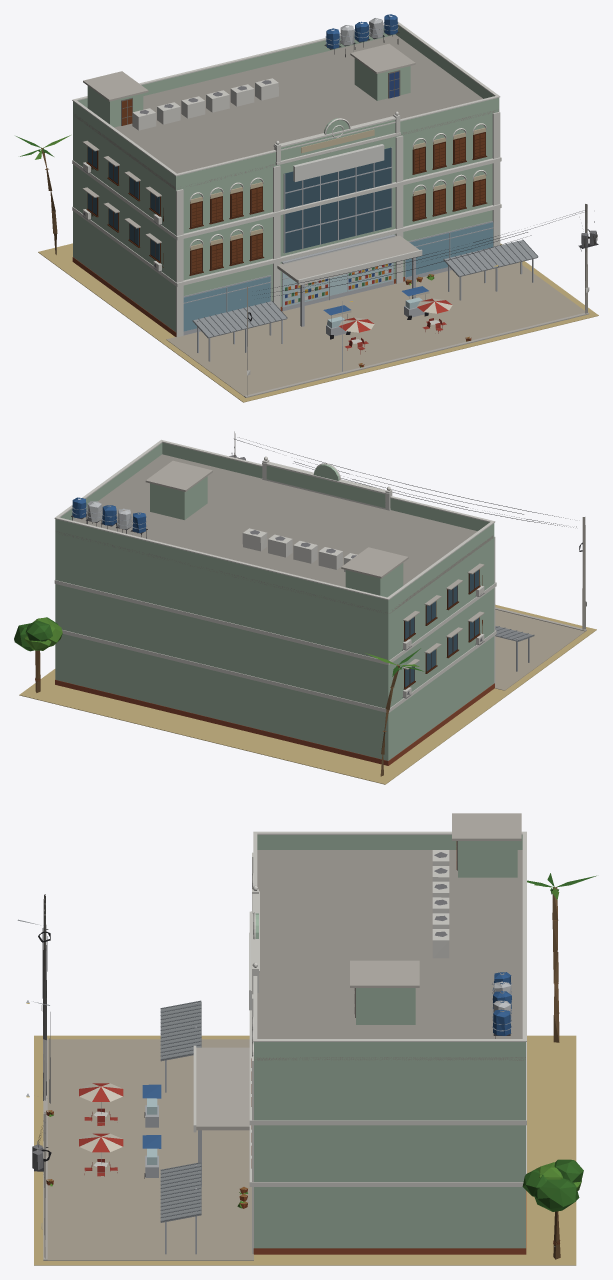
The model's file is shop_5.glb.
3 views of the same model, one above another, from view 1: azimuth 30°, elevation 25°; view 2: azimuth 150°, elevation 25°; view 3: azimuth 270°, elevation 25° (orthographic). The views are drawn at different scales.
Parts seen in each view (by area): view 1: body, windows; view 2: body, windows; view 3: body.
Part boxes in pixels (bbox=[...]): body: bbox=[16, 14, 598, 402]; windows: bbox=[88, 141, 497, 301]; body: bbox=[14, 431, 596, 784]; windows: bbox=[405, 570, 478, 687]; body: bbox=[17, 813, 596, 1265].
Bounding box in the file's own units: 35.44 × 15.87 × 34.42.
